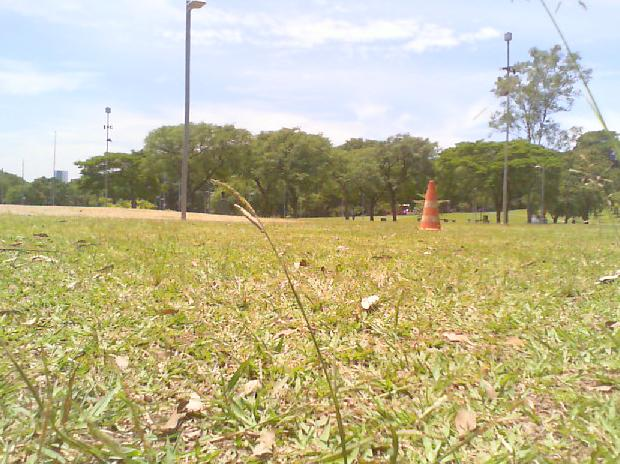0 cone: (419, 180, 442, 230)
